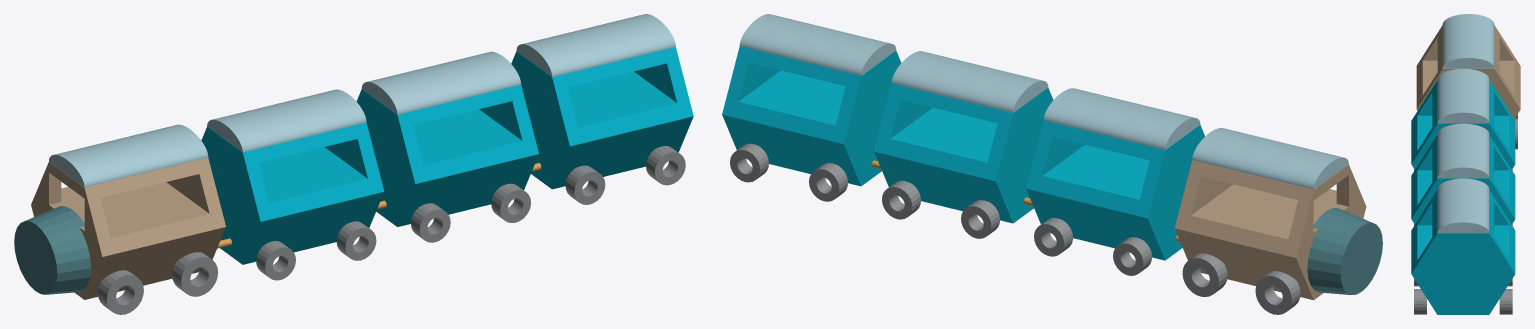
Rendered from Da_train.glb.
3 renders of one model, left to right at view 1: azimuth 30°, elevation 25°; view 2: azimuth 150°, elevation 25°; view 3: azimuth 270°, elevation 25°, orthographic. The views are drawn at different scales.
Parts seen in each view (by area): view 1: Mesh_Mesh_head_geo.001_lambert2SG.001; view 2: Mesh_Mesh_head_geo.001_lambert2SG.001; view 3: Mesh_Mesh_head_geo.001_lambert2SG.001.
Part boxes in pixels (x1,y1,x2,y2): Mesh_Mesh_head_geo.001_lambert2SG.001: (14, 14, 693, 314); Mesh_Mesh_head_geo.001_lambert2SG.001: (722, 14, 1382, 314); Mesh_Mesh_head_geo.001_lambert2SG.001: (1411, 14, 1520, 314).
Size of the model in its own units: 100 by 21 by 21.
